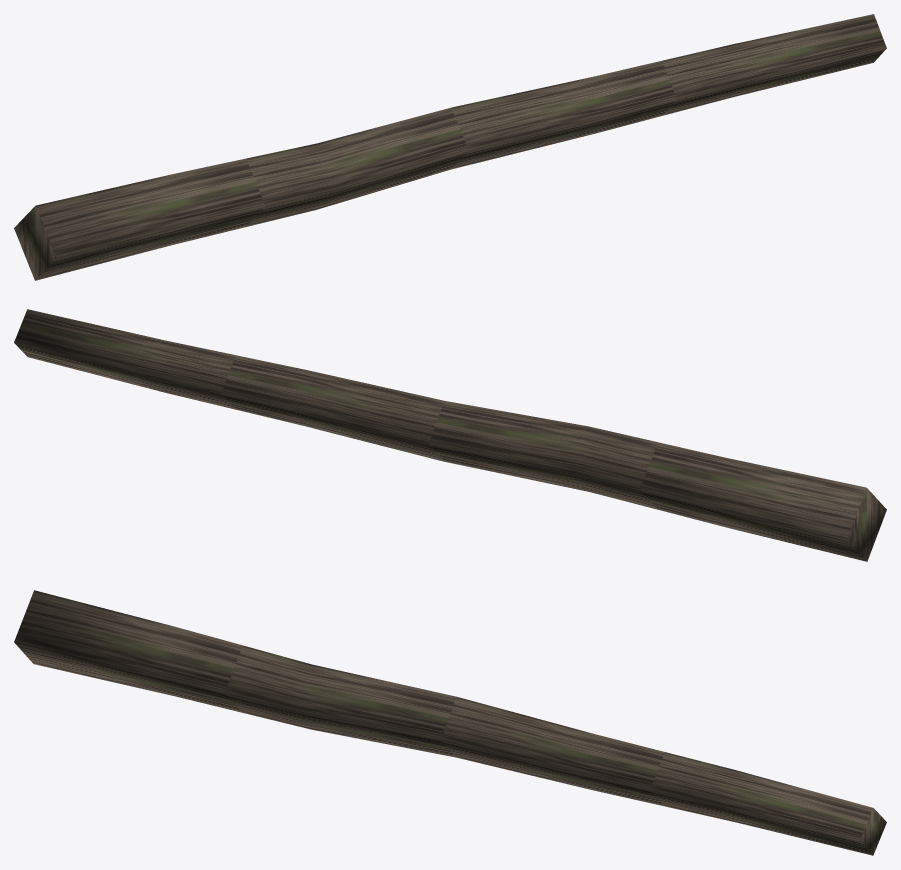
The model's file is Log_Fallen_1_LOD2.gltf.
The picture shows the model from 3 angles, top to bottom: view 1: azimuth 30°, elevation 25°; view 2: azimuth 150°, elevation 25°; view 3: azimuth 330°, elevation 25°; orthographic projection.
Visible parts, largest first — view 1: Log_Fallen_1_LOD2; view 2: Log_Fallen_1_LOD2; view 3: Log_Fallen_1_LOD2.
Boxes of the visible parts, bbox=[...] form: Log_Fallen_1_LOD2: bbox=[14, 14, 886, 280]; Log_Fallen_1_LOD2: bbox=[14, 309, 886, 561]; Log_Fallen_1_LOD2: bbox=[14, 590, 886, 855].
Bounding box in the file's own units: 8.01 × 0.68 × 0.7289.
Materials: 1 (1 with a texture image).
